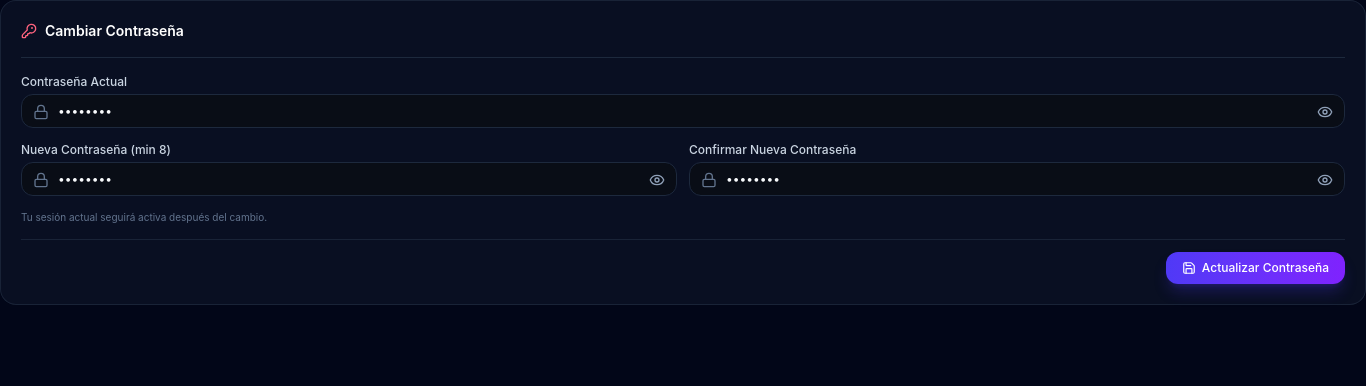
Test: ChangePasswordForm › changes the password and clears the form on success
In the password field labelled "Contraseña Actual": (683, 111) [21,94,1345,128], type "actualPass123"
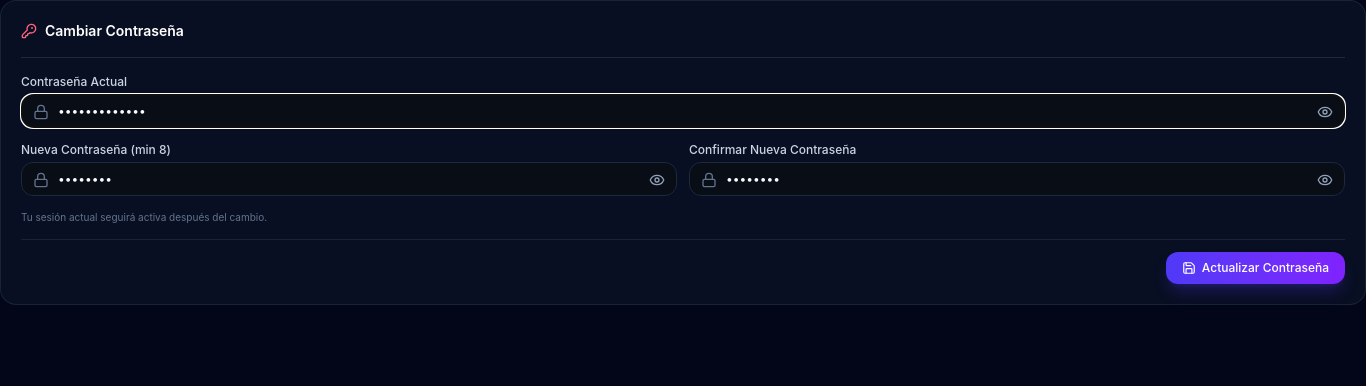
In the password field labelled "Nueva Contraseña (min 8)": (349, 179) [21,162,677,196], type "nuevaPass456"
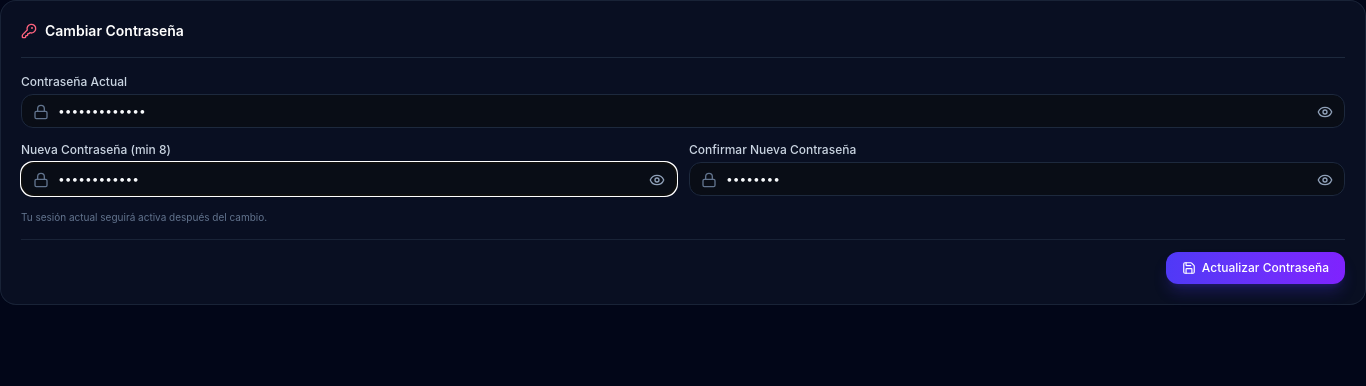
In the password field labelled "Confirmar Nueva Contraseña": (1017, 179) [689,162,1345,196], type "nuevaPass456"
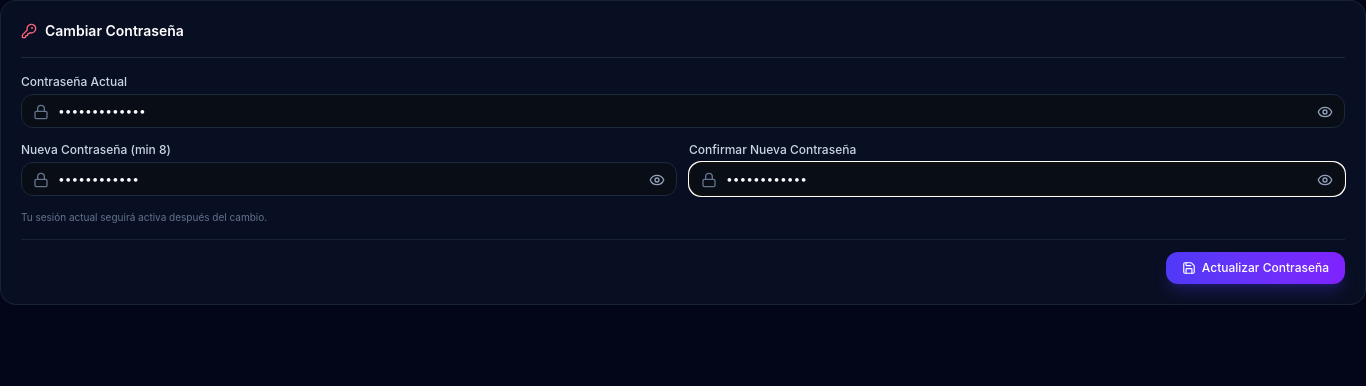
Click the button "Actualizar Contraseña": (1255, 268) [1166,252,1345,284]
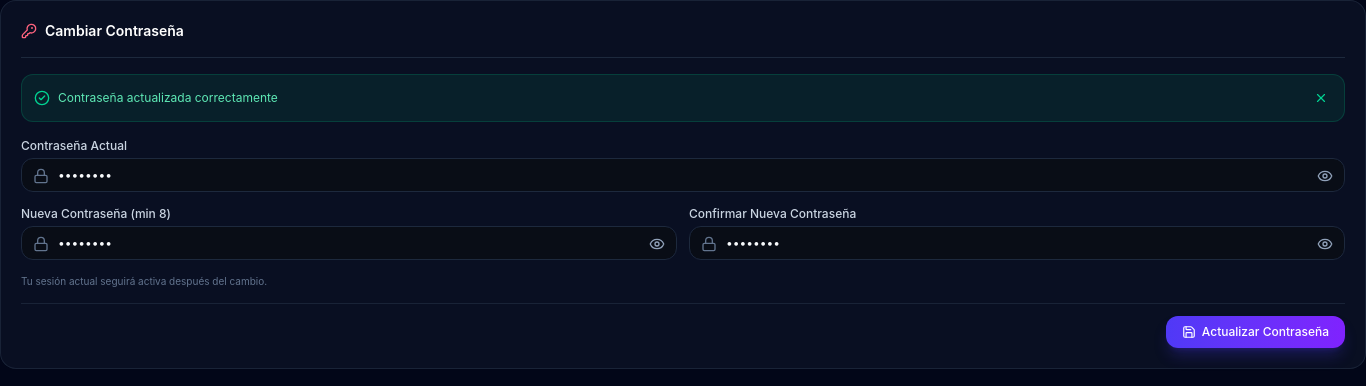
Now the text "Contraseña actualizada correctamente" is shown, box [58,90,278,106]
Now the password field labelled "Contraseña Actual" is empty, box [21,158,1345,192]
